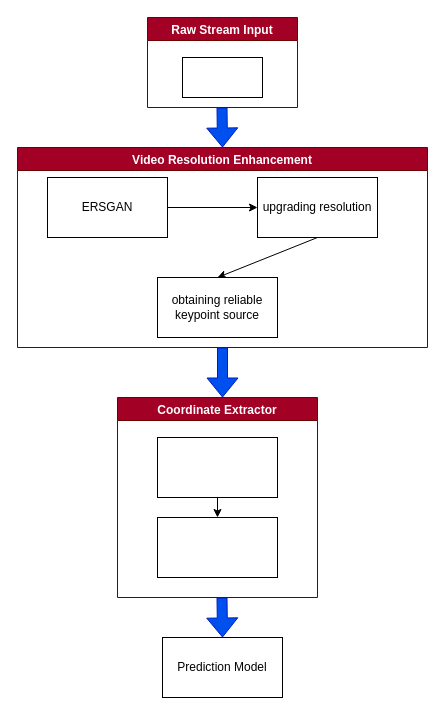
Some shapes in this 445 by 715 pixel diagram are drawn without their labels. Each missing label, with the box of its shape:
(X,Y) coordinate set: (156, 516, 278, 578)
Movenet (Mobile Net v2 architecture): (156, 436, 278, 498)
obtaining clips: (182, 56, 262, 98)
